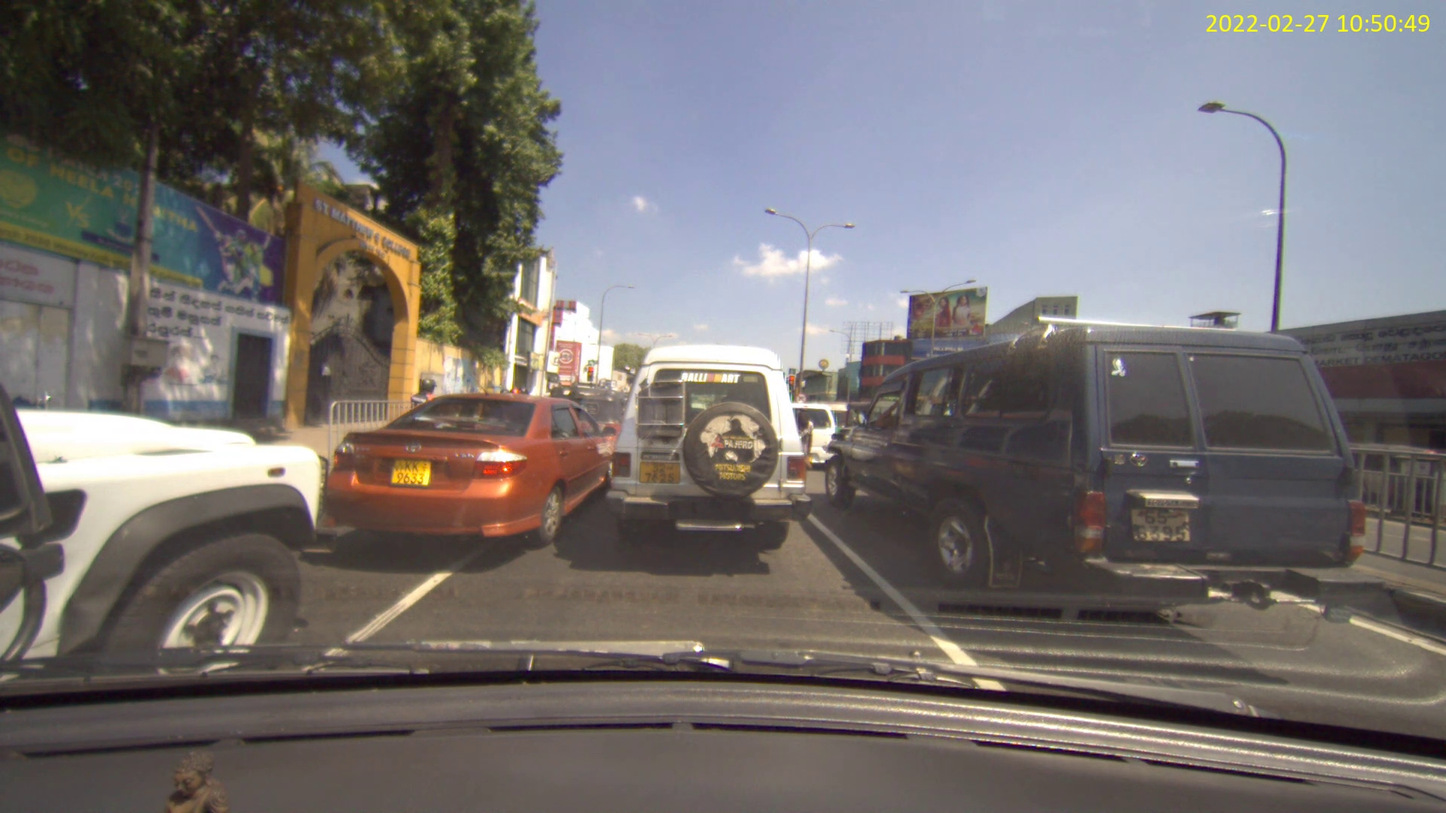Red-Yellow: (587, 365, 594, 382), (789, 375, 795, 391)
